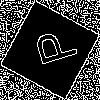P: (25, 25, 79, 70)
